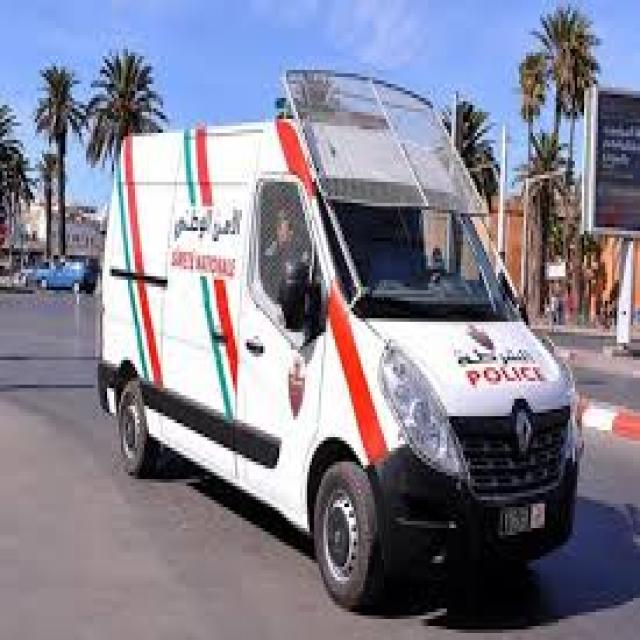Police car: (93, 61, 585, 619)
